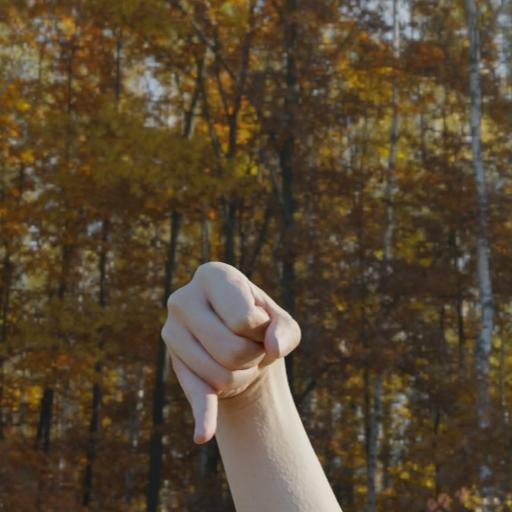J: (158, 255, 303, 452)
